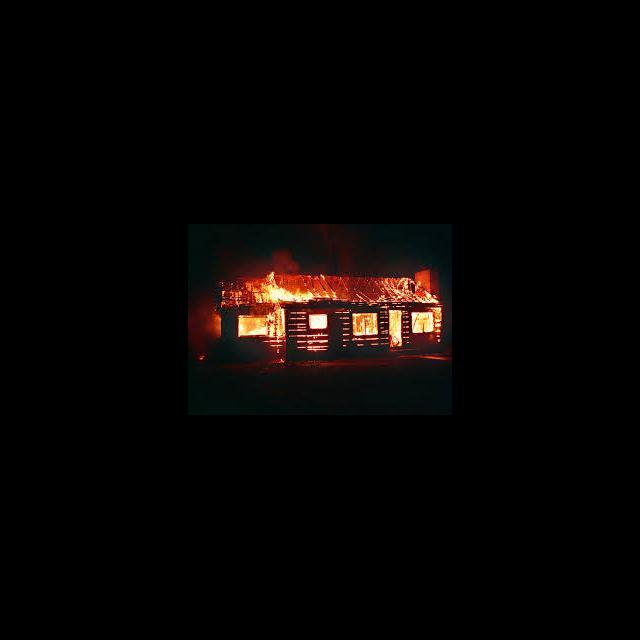Fire: (264, 263, 312, 307), (388, 310, 404, 348), (390, 277, 418, 298), (352, 314, 378, 336), (238, 316, 266, 336), (268, 309, 286, 338), (412, 312, 434, 332), (418, 292, 440, 306), (310, 314, 328, 330), (318, 273, 328, 282), (332, 292, 338, 300), (316, 294, 322, 300), (324, 293, 329, 299)
